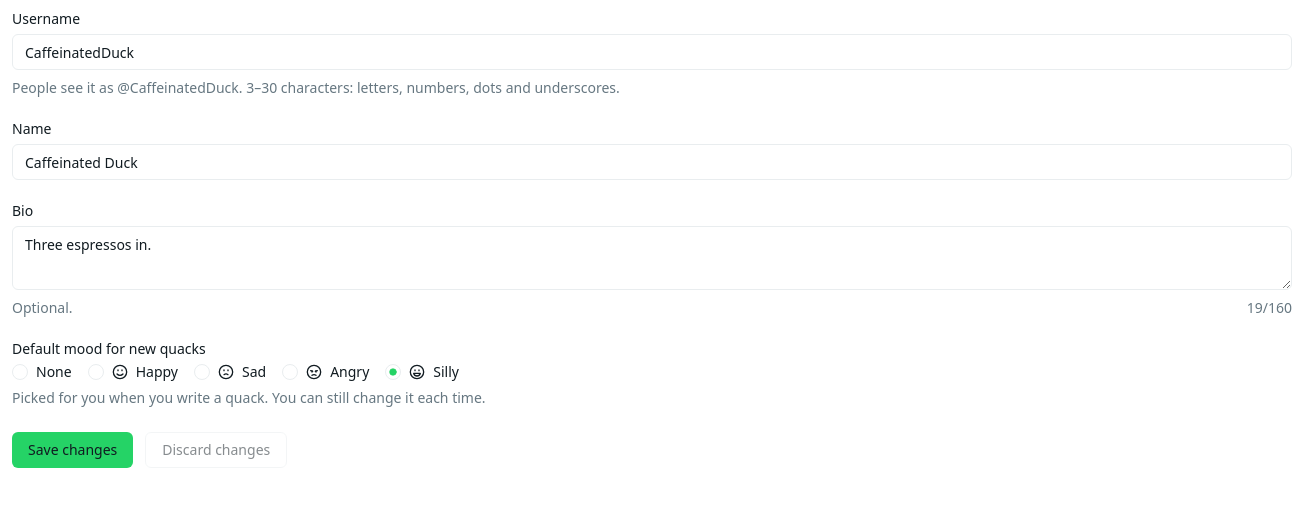
Test: ProfileForm › rejects the username duck pond without saving
This screenshot has width=1304, height=513.
Replace the text in the field labelled "Username" with "duck pond" at x=652, y=52, box [12, 34, 1292, 70]
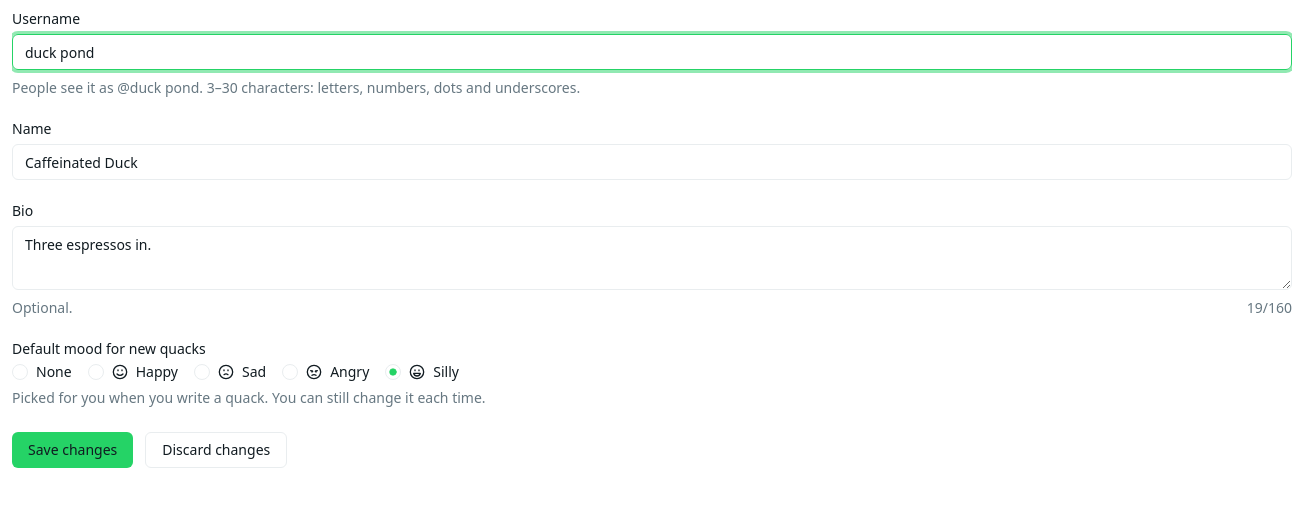
Click the button "Save changes".
click(73, 450)  # box [12, 432, 133, 468]
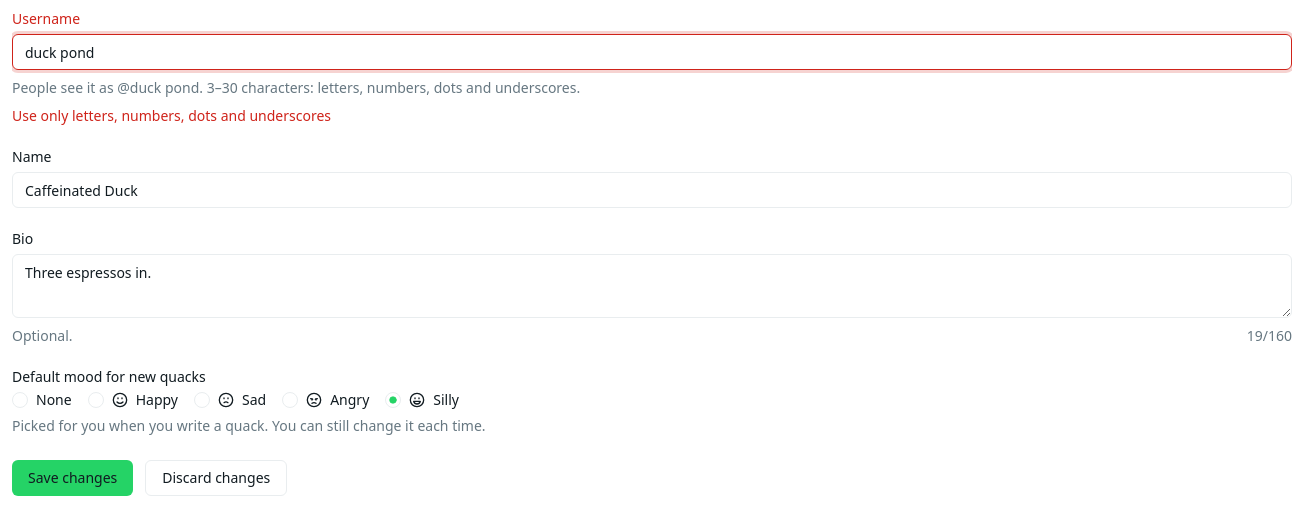
expect the text "Use only letters, numbers, dots and underscores" is shown: met, box [12, 106, 331, 125]
